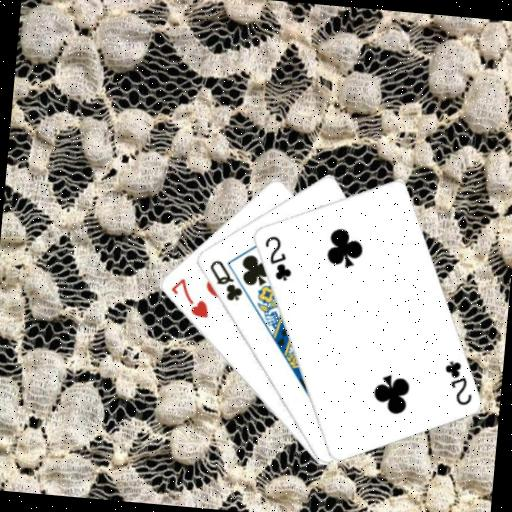2C: (258, 232, 296, 283), (438, 357, 476, 408)
7H: (165, 275, 213, 321)
QC: (203, 257, 247, 304)
